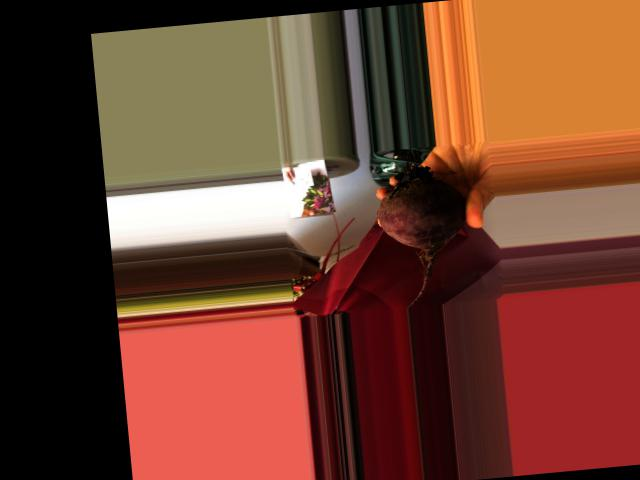beet: (371, 143, 473, 309)
